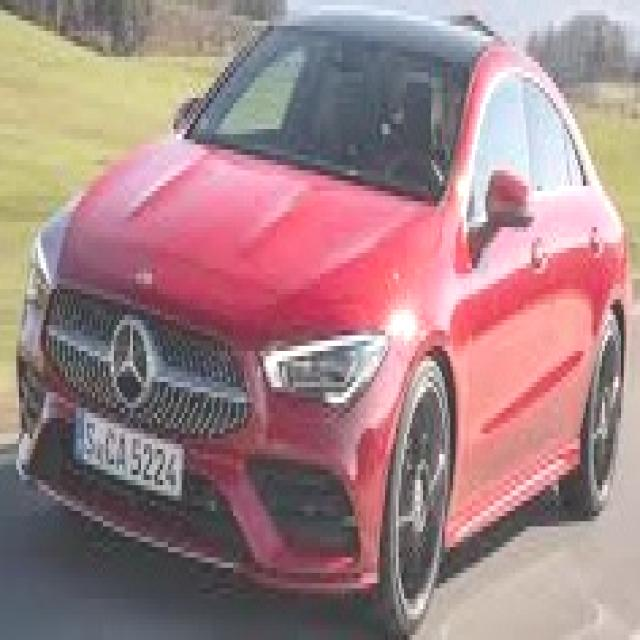red: (18, 0, 629, 586)
